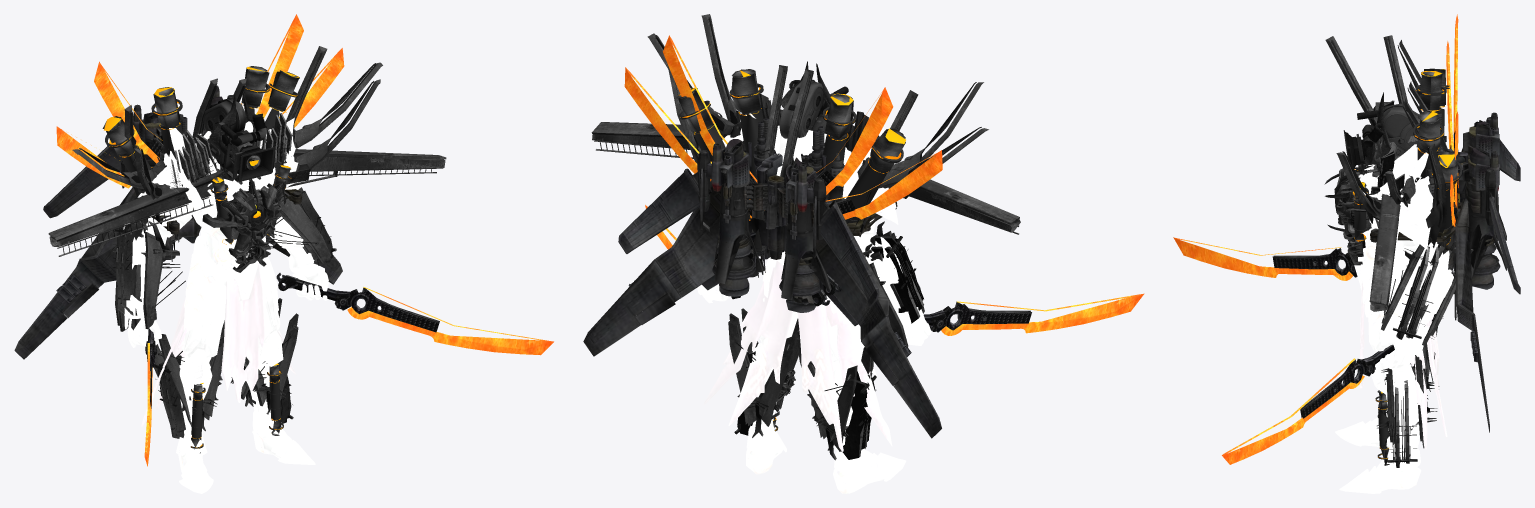
File: boss10.glb
The picture shows the model from 3 angles, left to right: view 1: azimuth 30°, elevation 25°; view 2: azimuth 150°, elevation 25°; view 3: azimuth 270°, elevation 25°; orthographic projection. The views are drawn at different scales.
Parts seen in each view (by area): view 1: Object_18, Object_22, Object_38, Object_51, Object_53, Object_50, Object_24, Object_55, Object_44, Object_40, Object_25, Object_11 (+10 smaller); view 2: Object_22, Object_18, Object_51, Object_38, Object_53, Object_50, Object_55, Object_44, Object_41, Object_24, Object_40, Object_5 (+7 smaller); view 3: Object_18, Object_22, Object_51, Object_38, Object_44, Object_50, Object_53, Object_24, Object_40, Object_55, Object_6, Object_5 (+7 smaller).
Boxes of the visible parts, x1,y1,x2,y2 form: Object_18: (123, 111, 328, 493); Object_22: (14, 86, 342, 359); Object_38: (112, 194, 331, 431); Object_51: (56, 14, 553, 466); Object_53: (48, 149, 446, 256); Object_50: (112, 187, 336, 438); Object_24: (204, 98, 275, 184); Object_55: (106, 69, 298, 449); Object_44: (145, 137, 439, 408); Object_40: (190, 83, 298, 448); Object_25: (294, 79, 380, 171); Object_11: (272, 62, 382, 148); Object_22: (583, 118, 941, 438); Object_18: (691, 112, 931, 493); Object_51: (624, 35, 1144, 335); Object_38: (703, 221, 924, 460); Object_53: (591, 122, 1020, 234); Object_50: (734, 236, 923, 459); Object_55: (678, 69, 905, 427); Object_44: (711, 169, 1031, 332); Object_41: (821, 106, 903, 229); Object_24: (779, 79, 853, 138); Object_40: (679, 83, 865, 448); Object_5: (888, 82, 983, 188); Object_18: (1335, 110, 1453, 493); Object_22: (1370, 112, 1520, 432); Object_51: (1173, 14, 1459, 464); Object_38: (1377, 236, 1473, 448); Object_44: (1272, 131, 1458, 418); Object_50: (1387, 246, 1439, 467); Object_53: (1351, 101, 1400, 319); Object_24: (1343, 103, 1420, 175); Object_40: (1351, 123, 1462, 459); Object_55: (1355, 68, 1458, 465); Object_6: (1426, 143, 1446, 247); Object_5: (1325, 36, 1377, 125).
Size of the model in its own units: 2.14 by 1.91 by 1.48.
Materials: 41 (36 with a texture image).
